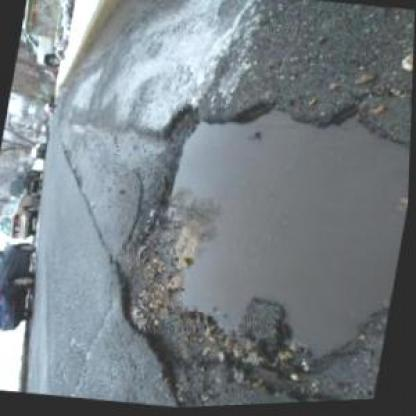pothole: (89, 72, 412, 411)
